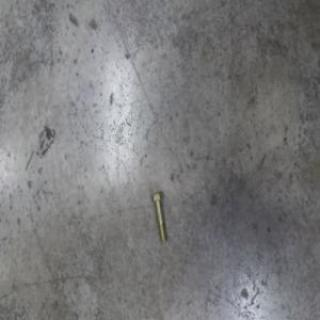Bolttrack_idkeyframe: (151, 187, 168, 241)
